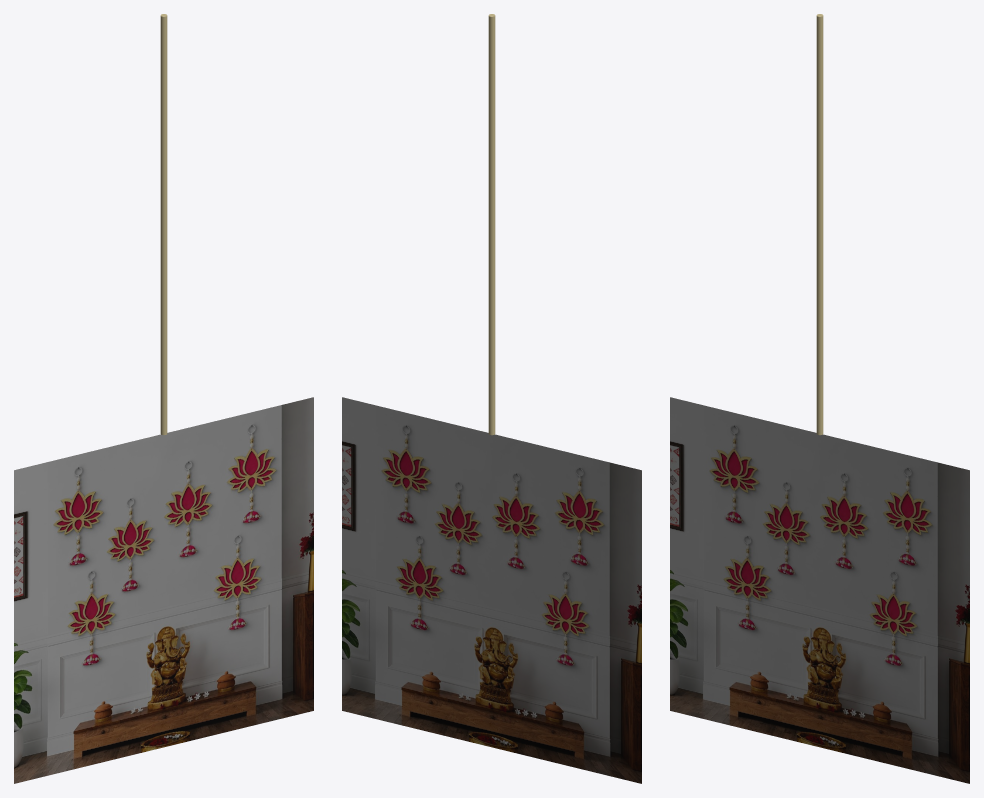
3 renders of one model, left to right at view 1: azimuth 30°, elevation 25°; view 2: azimuth 150°, elevation 25°; view 3: azimuth 330°, elevation 25°, orthographic.
Parts seen in each view (by area): view 1: photo, string; view 2: photo, string; view 3: photo, string.
Boxes of the visible parts, box(x1,y1,x2,y2) form: photo: box(14, 397, 313, 783); string: box(160, 14, 167, 435); photo: box(342, 397, 641, 783); string: box(488, 14, 495, 435); photo: box(670, 397, 969, 783); string: box(816, 14, 823, 435).
Bounding box in the file's own units: 0.3 × 0.7 × 0.006.
1 material, 1 textured.
